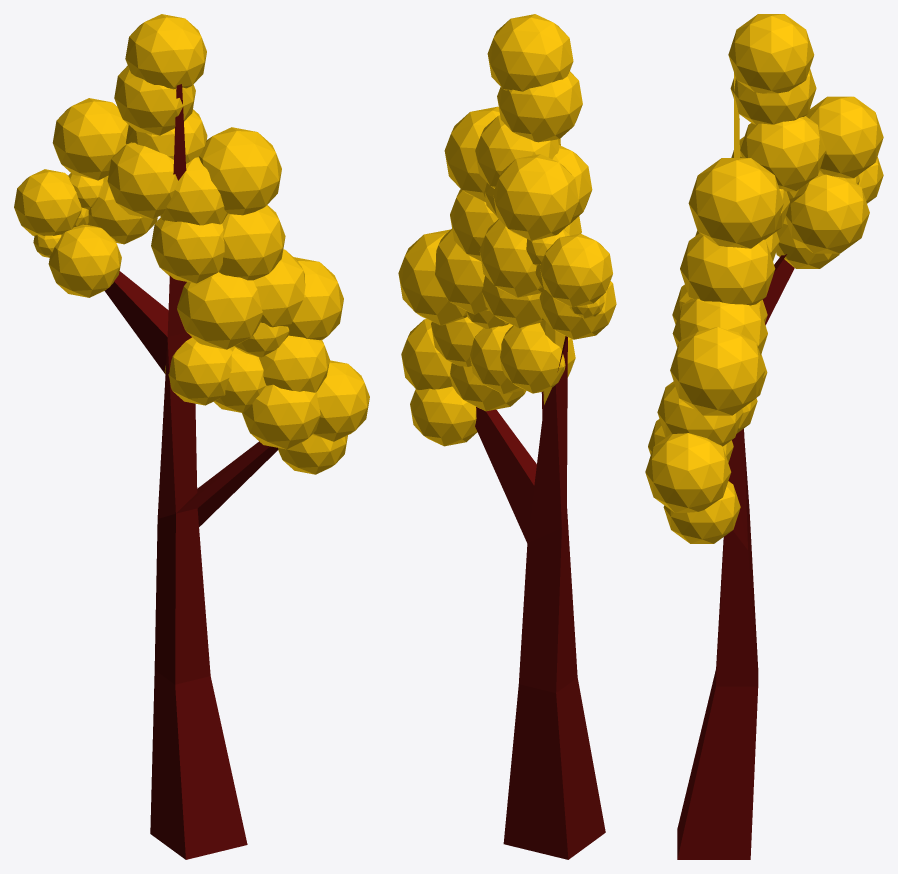
The model's file is TreeLowPoly.obj.
3 views of the same model, side by side, from view 1: azimuth 30°, elevation 25°; view 2: azimuth 150°, elevation 25°; view 3: azimuth 270°, elevation 25° (orthographic). The views are drawn at different scales.
Parts seen in each view (by area): view 1: Cube_Cube.002; view 2: Cube_Cube.002; view 3: Cube_Cube.002.
Part boxes in pixels (left/top/right/bottom): Cube_Cube.002: left=14, top=14, right=369, bottom=859; Cube_Cube.002: left=398, top=14, right=616, bottom=859; Cube_Cube.002: left=645, top=14, right=883, bottom=859.
Bounding box in the file's own units: 8.66 × 24.88 × 6.51.
